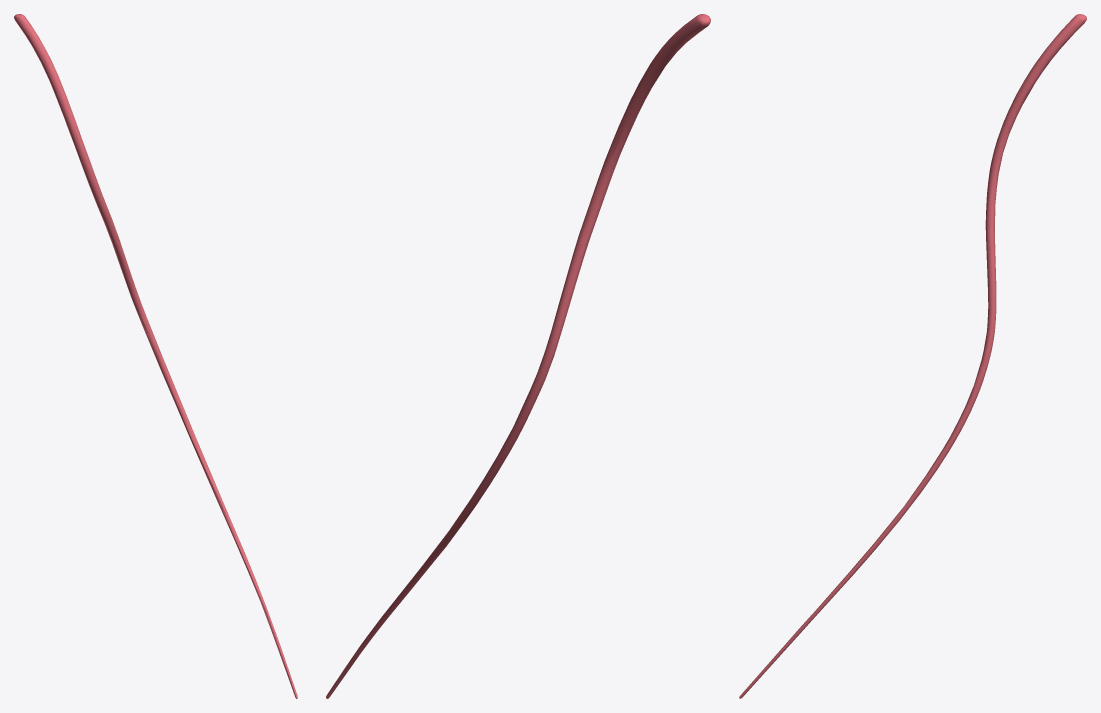
The model's file is fma85123_fj2370.glb.
3 renders of one model, left to right at view 1: azimuth 30°, elevation 25°; view 2: azimuth 210°, elevation 25°; view 3: azimuth 270°, elevation 25°, orthographic. The views are drawn at different scales.
Parts seen in each view (by area): view 1: FMA85123_FJ2370; view 2: FMA85123_FJ2370; view 3: FMA85123_FJ2370.
Boxes of the visible parts, box(x1,y1,x2,y2) form: FMA85123_FJ2370: box(14, 14, 297, 698); FMA85123_FJ2370: box(326, 14, 710, 698); FMA85123_FJ2370: box(739, 14, 1086, 698).
Bounding box in the file's own units: 0.019 × 0.089 × 0.0449.
